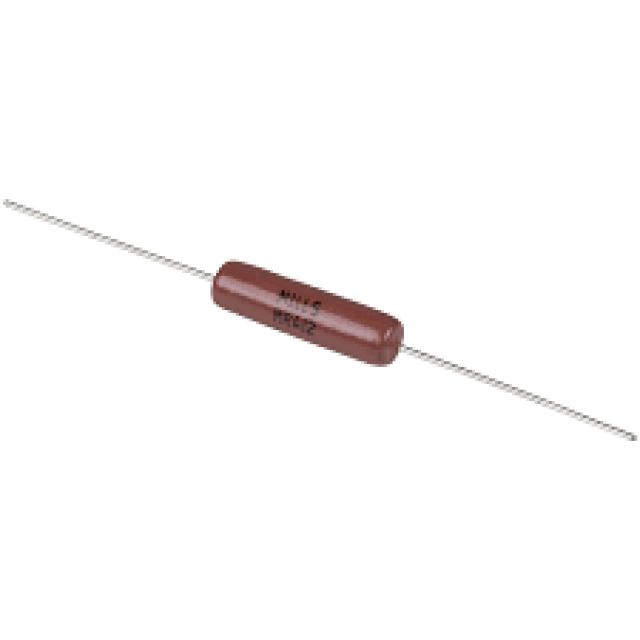Resistor: (207, 258, 403, 368)
